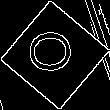O_E: (27, 31, 83, 79)
